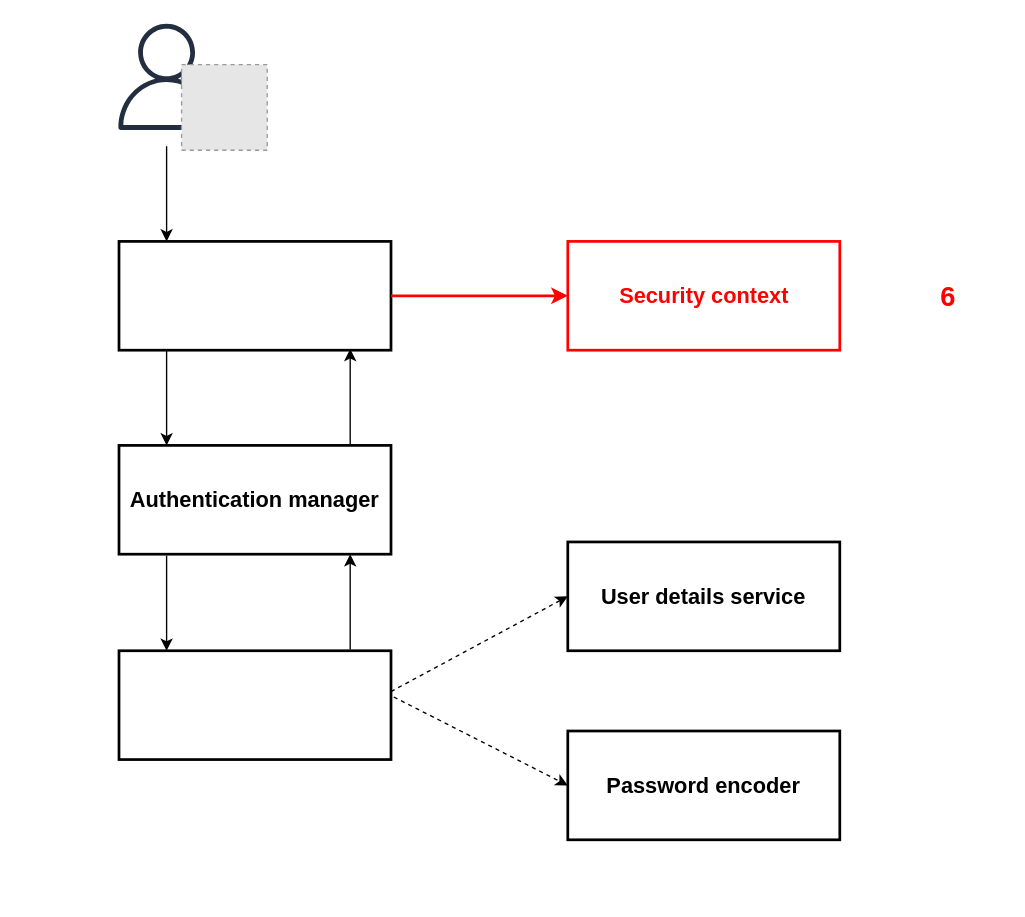
Some shapes in this 1025 by 917 pixel diagram are drawn without their labels. Grey dashed boxes stand in for pictures. Here are the shapes that lost their labels. From the top down, the box of each, then its label:
(117, 239, 392, 351): Authentication filter
(117, 649, 392, 760): Authentication provider
